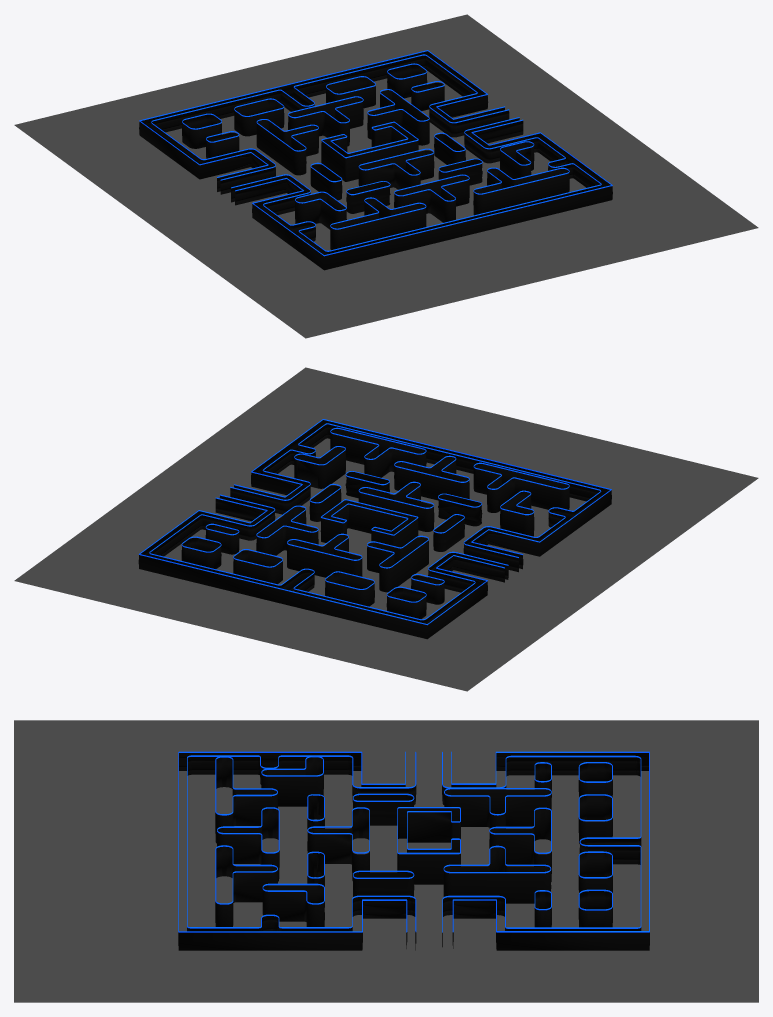
File: mapa.fbx
3 renders of one model, top to bottom at view 1: azimuth 30°, elevation 25°; view 2: azimuth 150°, elevation 25°; view 3: azimuth 270°, elevation 25°, orthographic. The views are drawn at different scales.
Parts seen in each view (by area): view 1: Plano, Blue Lights, Pack Man Map Blue Lights; view 2: Plano, Blue Lights, Pack Man Map Blue Lights; view 3: Plano, Blue Lights, Pack Man Map Blue Lights.
Part boxes in pixels (<box>): Plano: <box>14,14,758,338</box>; Blue Lights: <box>139,51,612,270</box>; Pack Man Map Blue Lights: <box>139,50,612,256</box>; Plano: <box>14,367,758,691</box>; Blue Lights: <box>138,420,611,639</box>; Pack Man Map Blue Lights: <box>139,419,611,625</box>; Plano: <box>14,720,758,1002</box>; Blue Lights: <box>178,753,649,950</box>; Pack Man Map Blue Lights: <box>178,751,649,932</box>.
Size of the model in its own units: 18610 by 1121 by 20743.
